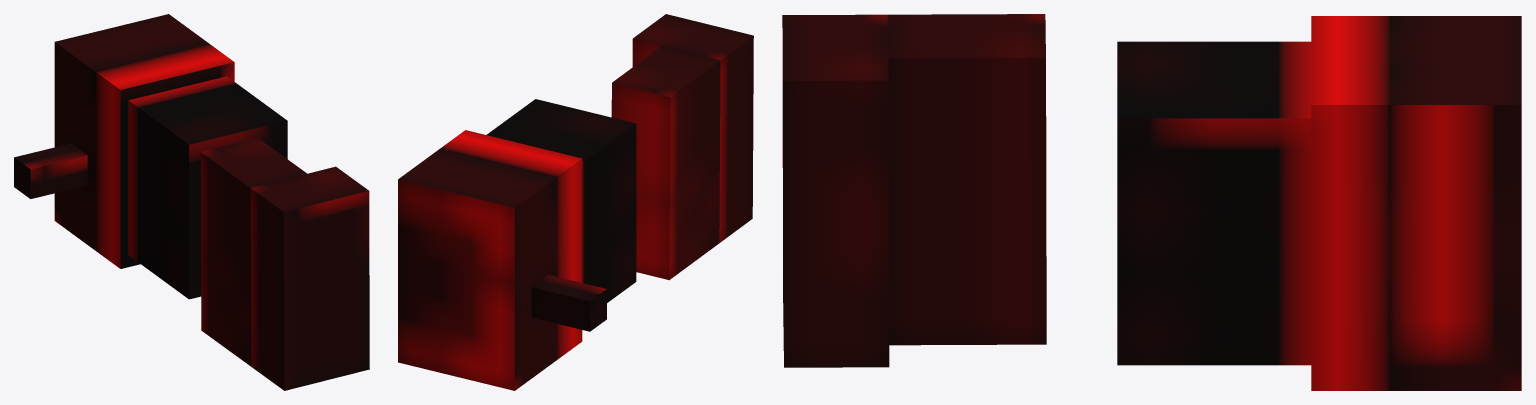
File: L_Arm_IllagerRoyalGuard.glb
3 renders of one model, left to right at view 1: azimuth 30°, elevation 25°; view 2: azimuth 150°, elevation 25°; view 3: azimuth 270°, elevation 25°, orthographic. The views are drawn at different scales.
Parts seen in each view (by area): view 1: L_Arm_IllagerRoyalGuard.001; view 2: L_Arm_IllagerRoyalGuard.001; view 3: L_Arm_IllagerRoyalGuard.001.
Boxes of the visible parts, x1,y1,x2,y2 form: L_Arm_IllagerRoyalGuard.001: (14, 14, 369, 390); L_Arm_IllagerRoyalGuard.001: (398, 14, 753, 390); L_Arm_IllagerRoyalGuard.001: (782, 14, 1521, 390).
Bounding box in the file's own units: 37.5 × 37.63 × 87.83.
Materials: 1 (1 with a texture image).
